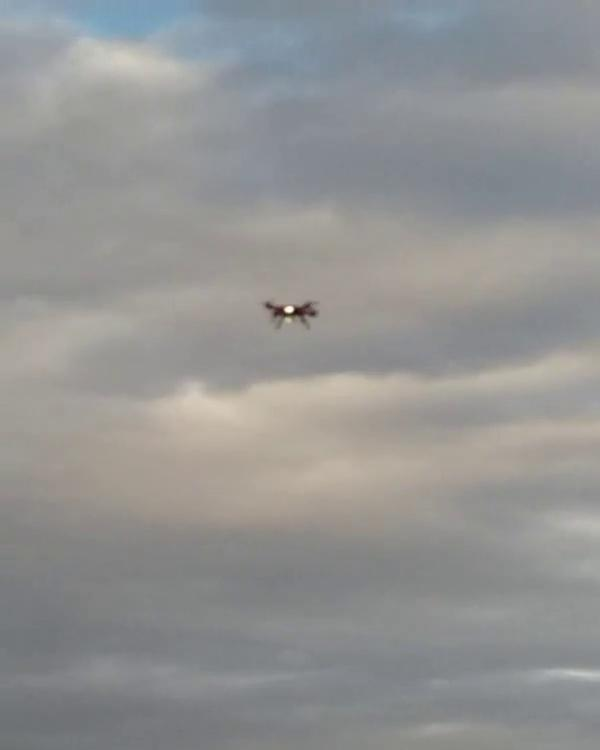drone: (255, 293, 331, 332)
